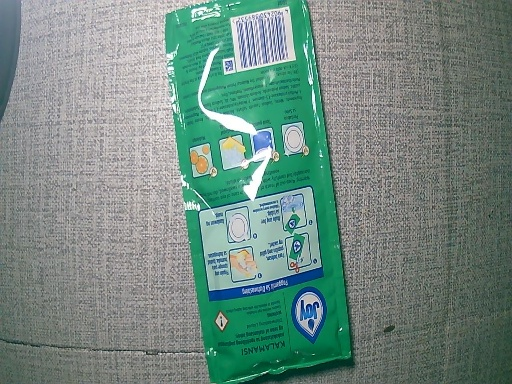plastic: (168, 2, 360, 384)
